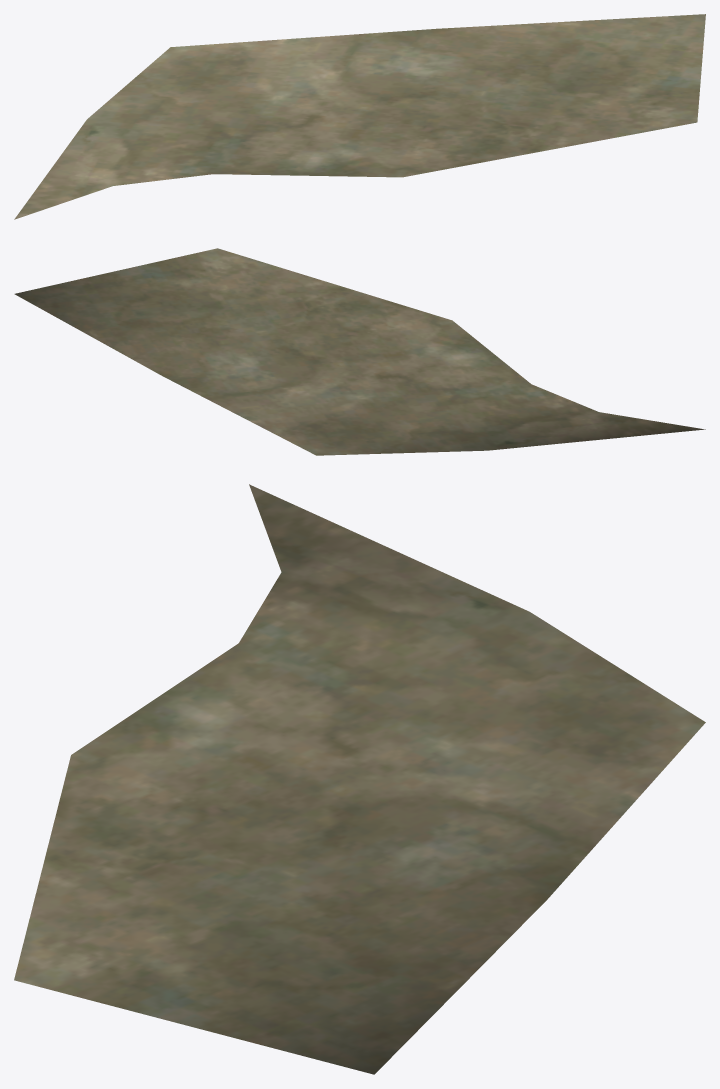
File: OVERHILL_A_01_LINE98.fbx
3 views of the same model, one above another, from view 1: azimuth 30°, elevation 25°; view 2: azimuth 150°, elevation 25°; view 3: azimuth 270°, elevation 25° (orthographic). The views are drawn at different scales.
Visible parts, largest first — view 1: OVERHILL_A_01_LINE98; view 2: OVERHILL_A_01_LINE98; view 3: OVERHILL_A_01_LINE98.
Part boxes in pixels (left/top/right/bottom): OVERHILL_A_01_LINE98: left=14, top=14, right=705, bottom=219; OVERHILL_A_01_LINE98: left=14, top=248, right=705, bottom=455; OVERHILL_A_01_LINE98: left=14, top=484, right=705, bottom=1074.
Bounding box in the file's own units: 22111 × 8.15 × 10950.
1 material, 1 textured.
